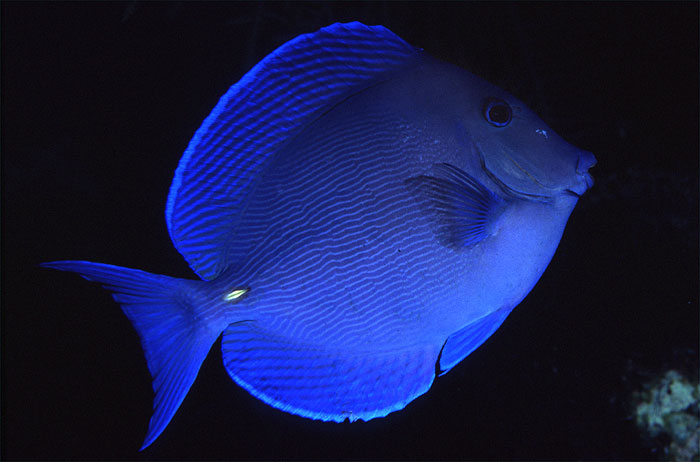Acanthurus_coeruleus: (40, 10, 600, 452)
